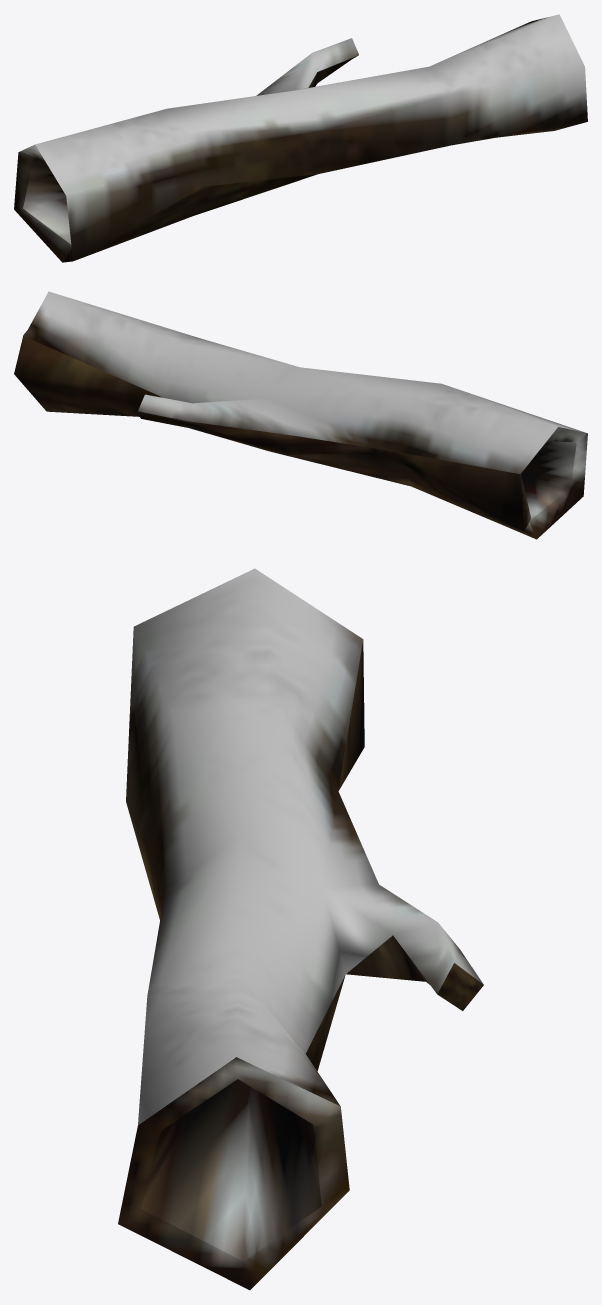
Rendered from general_obj_pillar.fbx.
3 renders of one model, top to bottom at view 1: azimuth 30°, elevation 25°; view 2: azimuth 150°, elevation 25°; view 3: azimuth 270°, elevation 25°, orthographic. The views are drawn at different scales.
Parts seen in each view (by area): view 1: Object24; view 2: Object24; view 3: Object24.
Part boxes in pixels (<box>): Object24: <box>14,14,587,262</box>; Object24: <box>14,291,587,539</box>; Object24: <box>118,568,483,1290</box>.
Size of the model in its own units: 3.13 by 0.7272 by 0.9475.
